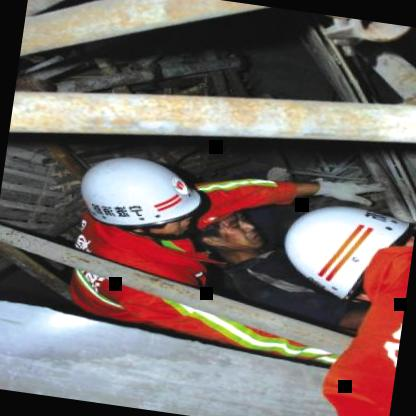head: (185, 195, 267, 261)
helmet: (270, 184, 416, 304), (57, 142, 212, 248)
